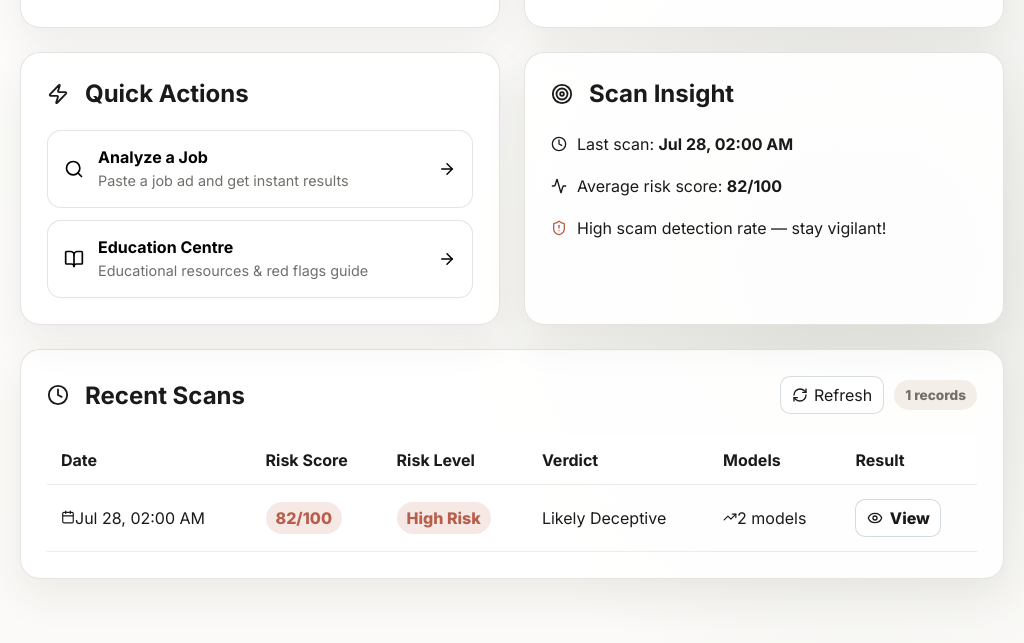
Test: marks an unavailable server result and shows a recoverable error
(page scrolled)
Click the button with aria-label "Open full analysis result": (898, 518) [855, 499, 941, 537]
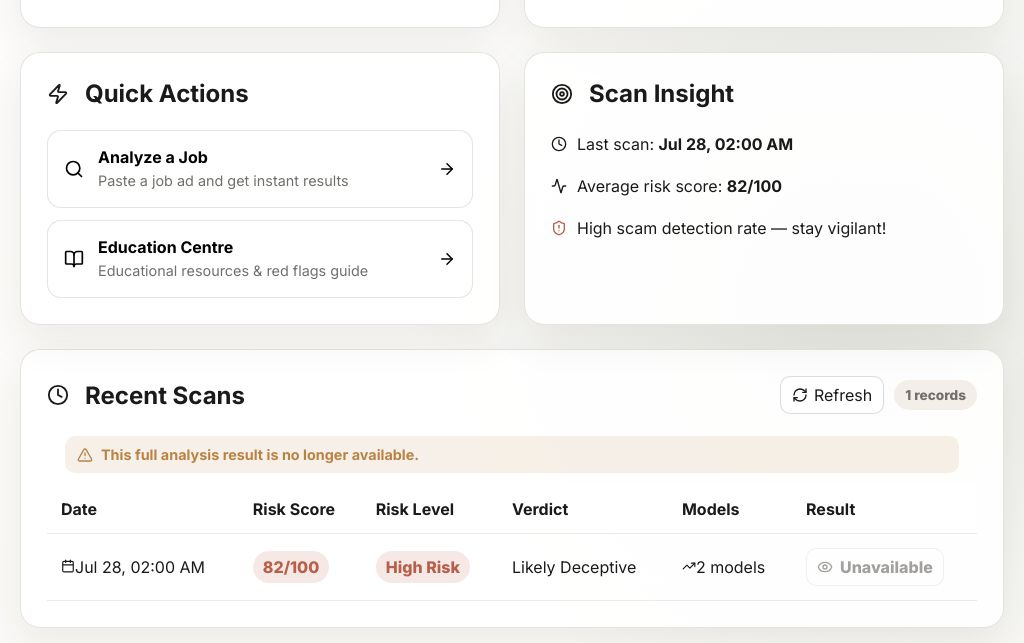
Expected: the message reads "This full analysis result is no longer available.", [101, 446, 419, 463]
